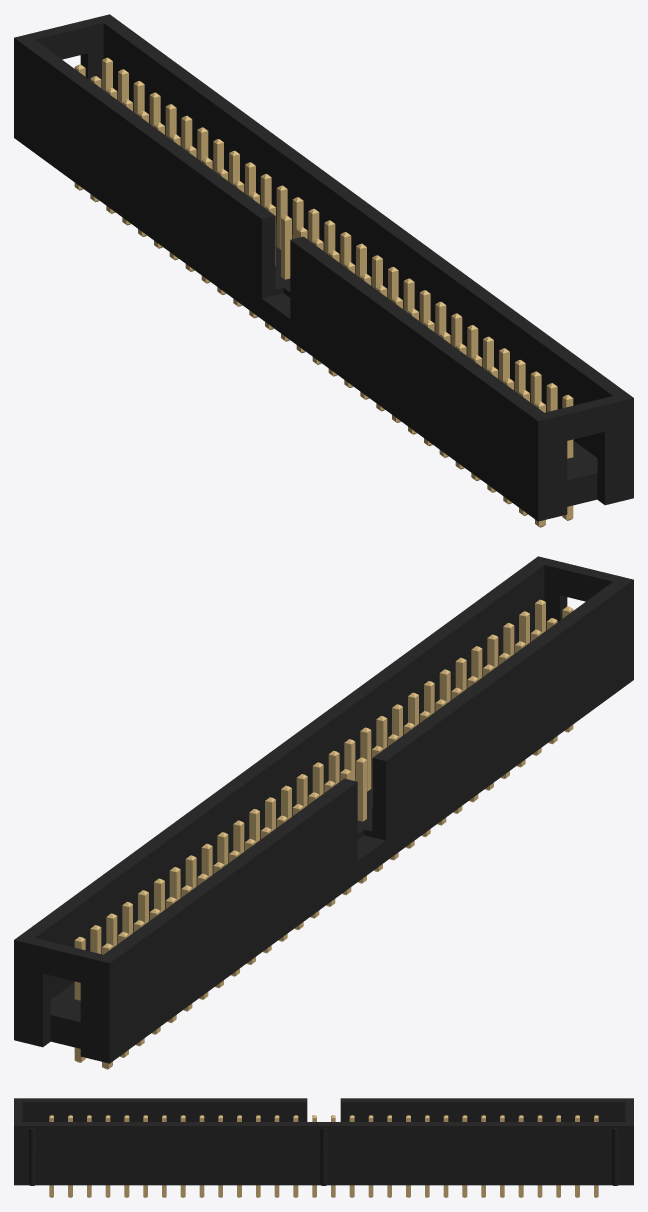
Rendered from kc-idc-header_2x30_p2.54mm_vertical.glb.
The picture shows the model from 3 angles, top to bottom: view 1: azimuth 30°, elevation 25°; view 2: azimuth 150°, elevation 25°; view 3: azimuth 270°, elevation 25°; orthographic projection. The views are drawn at different scales.
Visible parts, largest first — view 1: 0_0_0_0, 0.75_0.5_0.25_0.9; view 2: 0_0_0_0, 0.75_0.5_0.25_0.9; view 3: 0_0_0_0, 0.75_0.5_0.25_0.9.
Boxes of the visible parts, left/top/right/bottom form: 0_0_0_0: left=14, top=14, right=633, bottom=521; 0.75_0.5_0.25_0.9: left=74, top=57, right=573, bottom=527; 0_0_0_0: left=14, top=556, right=633, bottom=1063; 0.75_0.5_0.25_0.9: left=74, top=599, right=573, bottom=1069; 0_0_0_0: left=14, top=1098, right=633, bottom=1185; 0.75_0.5_0.25_0.9: left=49, top=1115, right=598, bottom=1197.
Size of the model in its own units: 0.9101 by 1.21 by 8.39.
